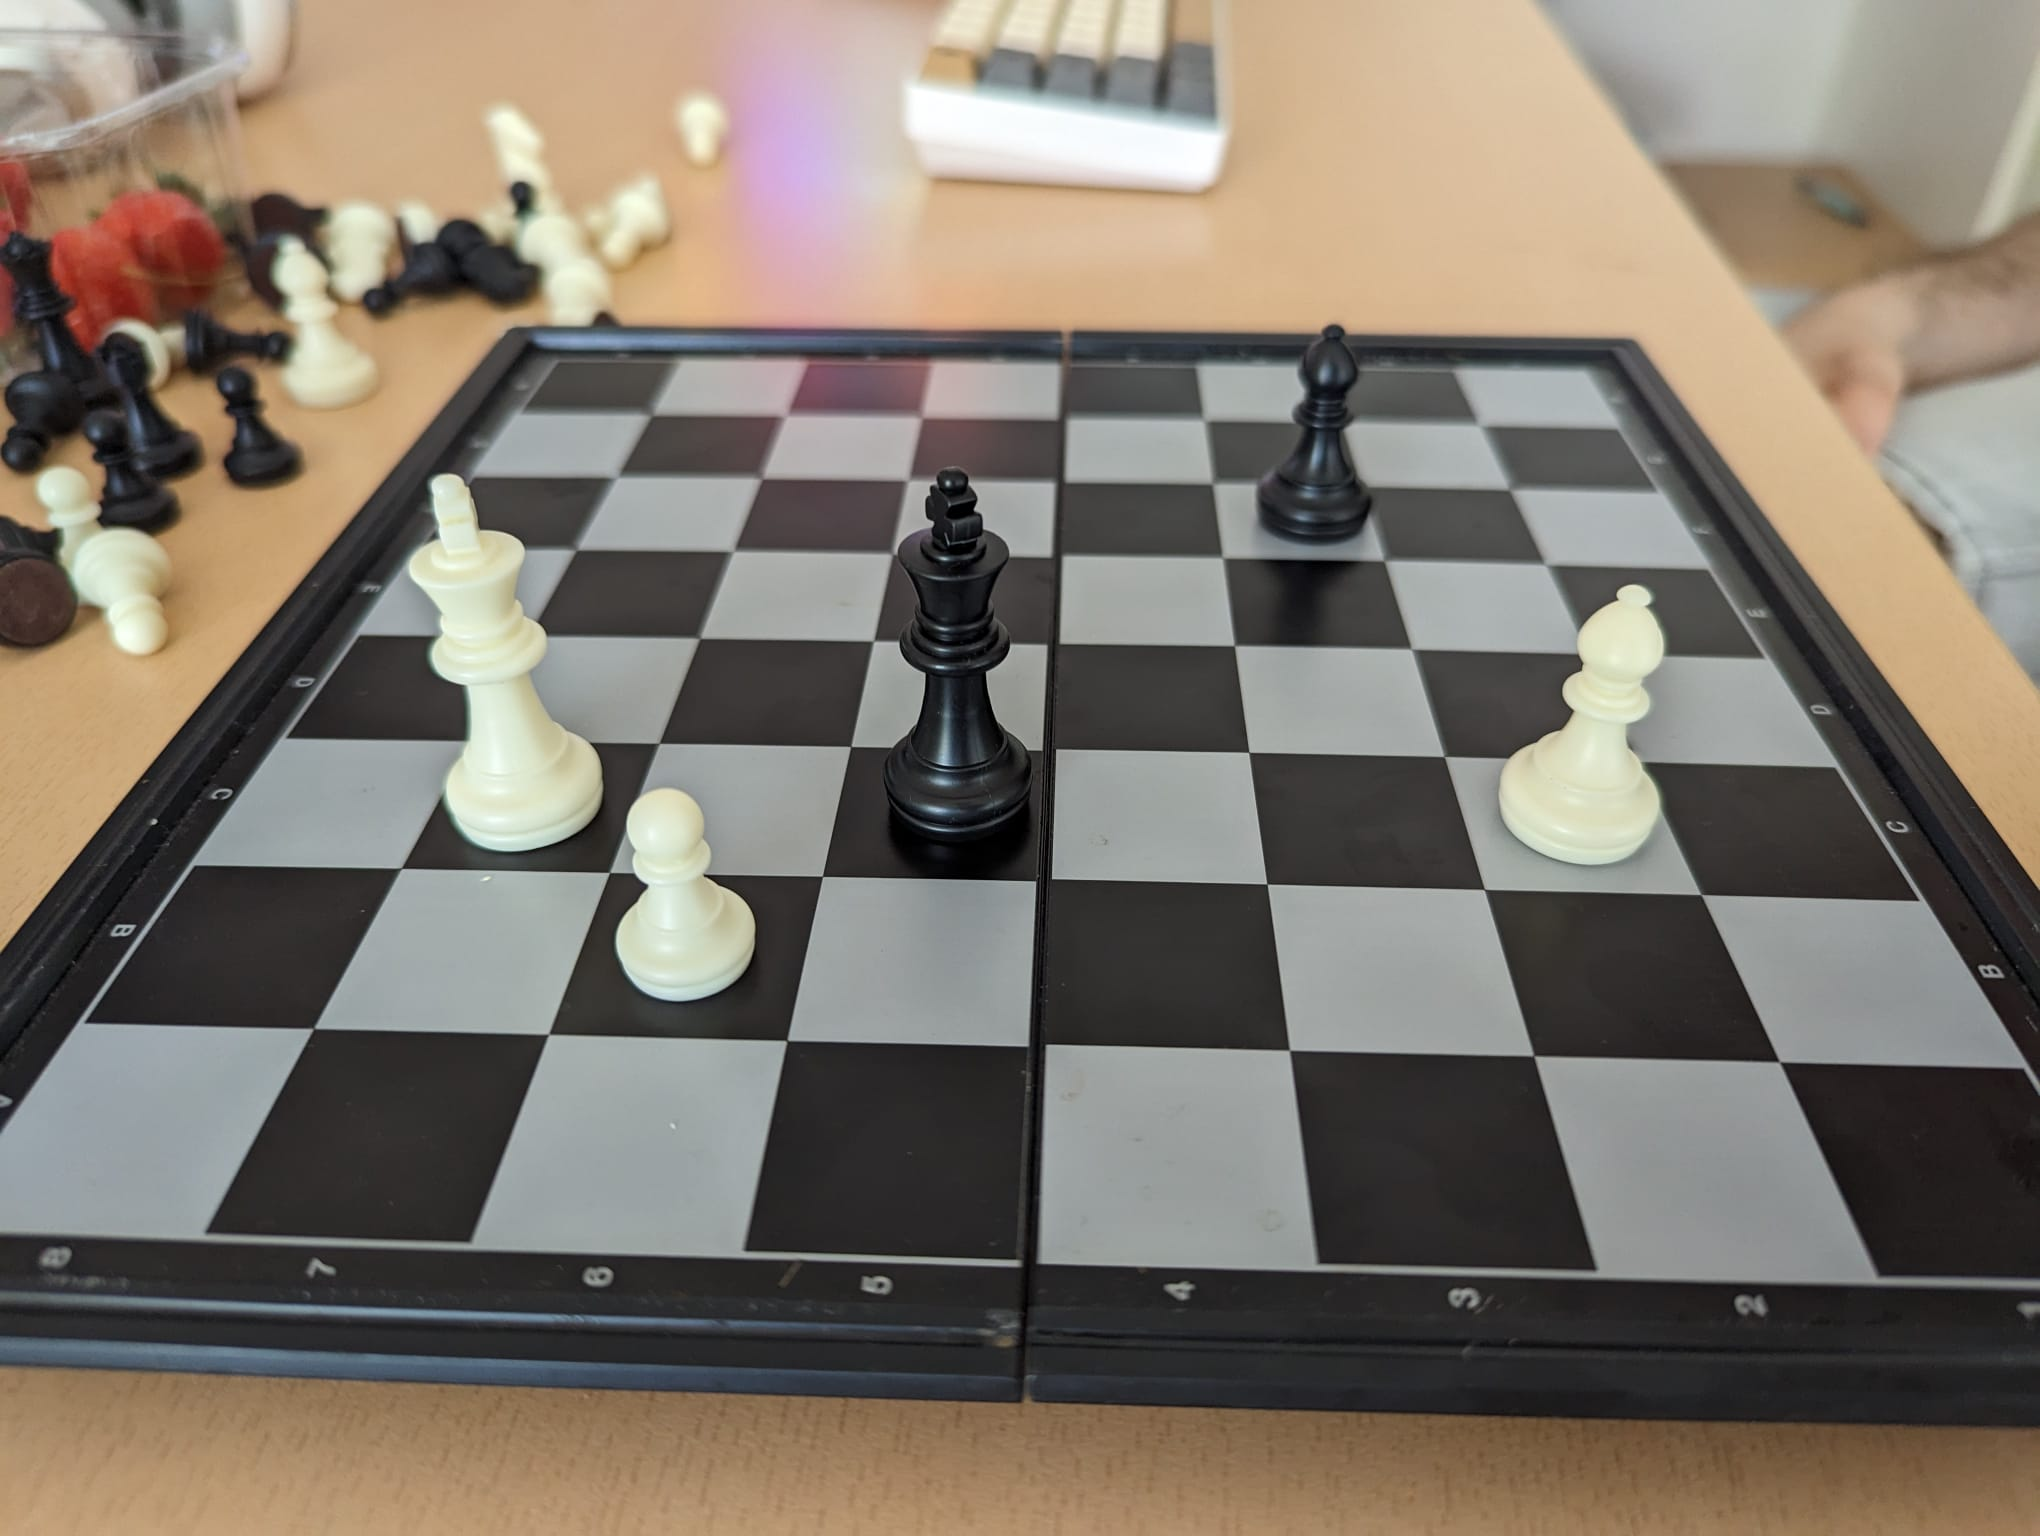BB: (1256, 319, 1371, 549)
BK: (882, 466, 1037, 850)
WB: (1493, 579, 1676, 870)
WK: (405, 474, 608, 850)
WP: (614, 789, 764, 1004)
